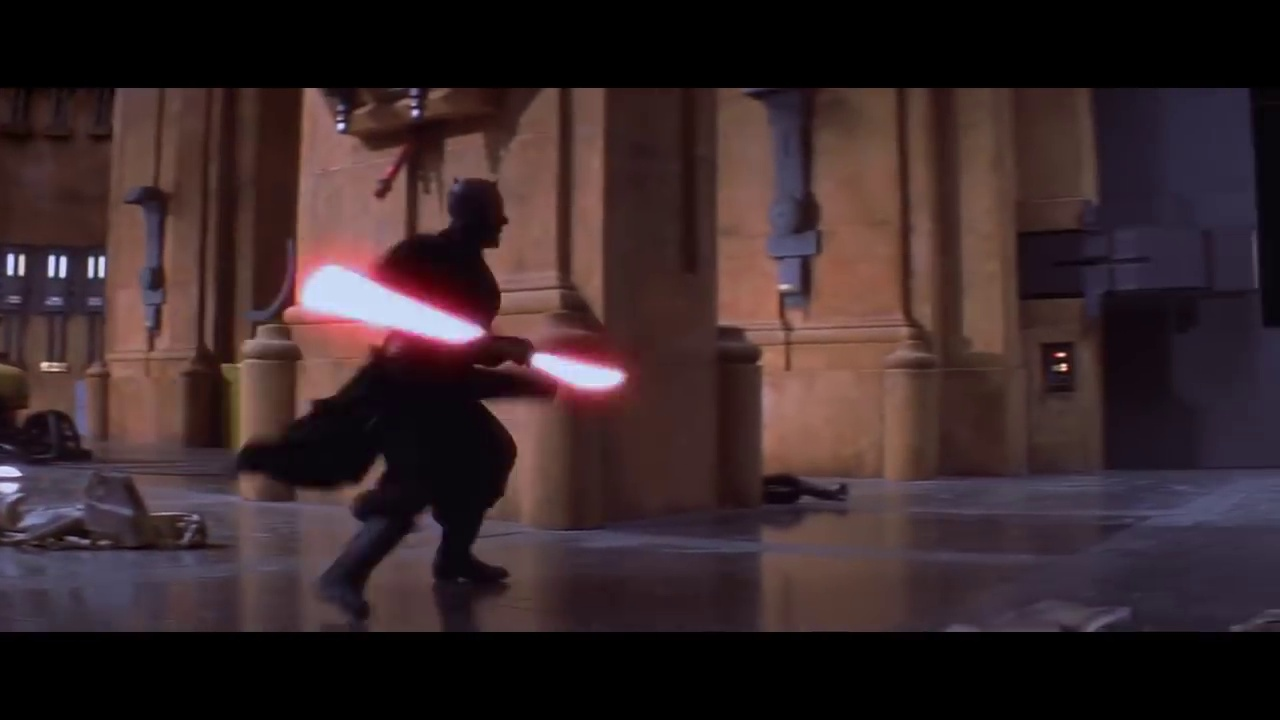lightsaber: (306, 244, 636, 403)
